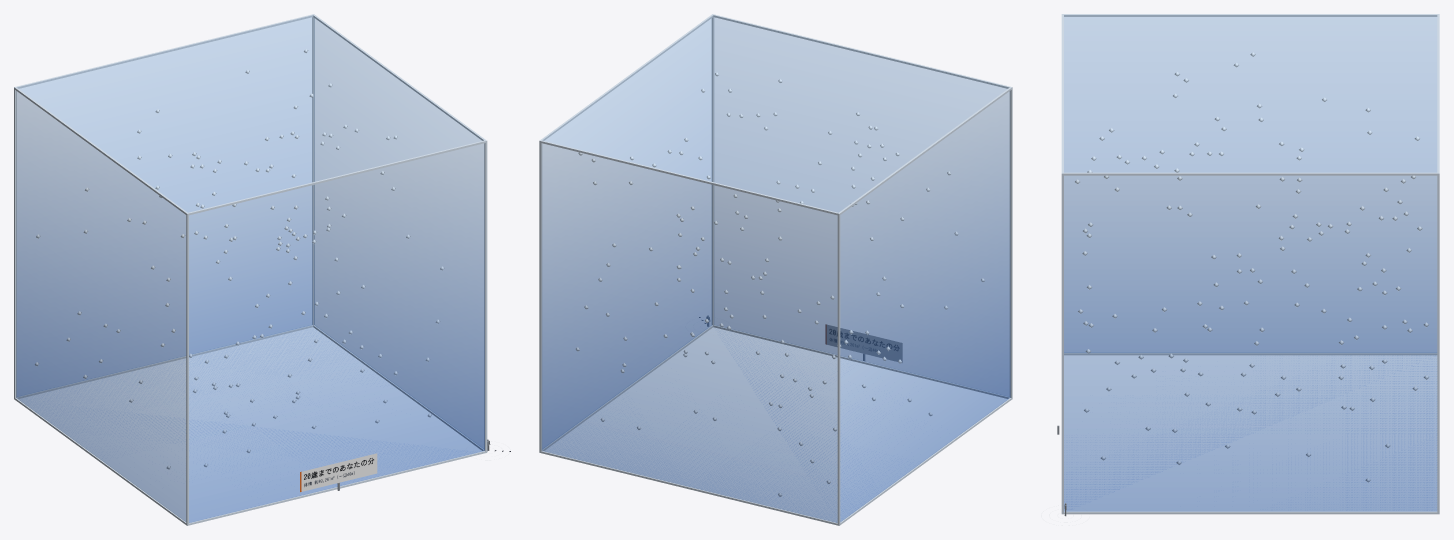
Rendered from cube_life_20.glb.
The picture shows the model from 3 angles, left to right: view 1: azimuth 30°, elevation 25°; view 2: azimuth 150°, elevation 25°; view 3: azimuth 270°, elevation 25°; orthographic projection. The views are drawn at different scales.
Parts seen in each view (by area): view 1: co2, edge, dots, label; view 2: co2, edge, dots, label; view 3: co2, edge, dots.
Part boxes in pixels (x1,y1,x2,y2): co2: [16, 15, 484, 522]; edge: [14, 14, 487, 525]; dots: [35, 49, 444, 469]; label: [300, 453, 377, 492]; co2: [542, 15, 1010, 522]; edge: [539, 14, 1012, 525]; dots: [576, 72, 984, 496]; label: [825, 324, 902, 362]; co2: [1064, 15, 1437, 511]; edge: [1061, 14, 1439, 514]; dots: [1075, 52, 1428, 482].
Bounding box in the file's own units: 50.01 × 46.3 × 49.11.
Materials: 8 (3 with a texture image).
